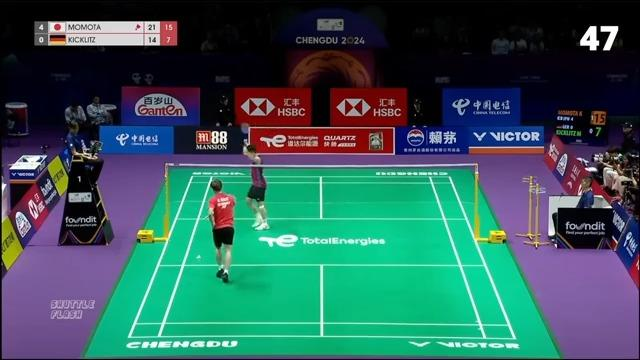Shuttlecock: (195, 254, 203, 260)
